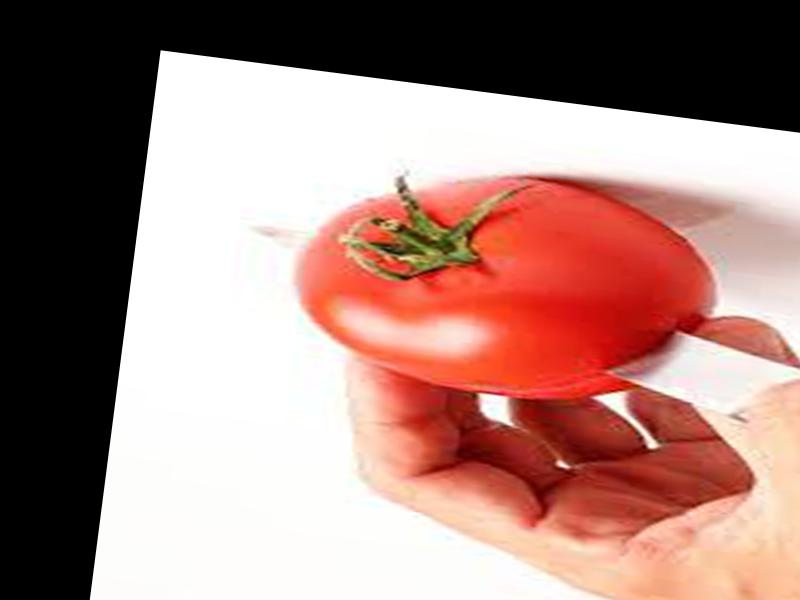Tomato: (290, 151, 726, 422)
